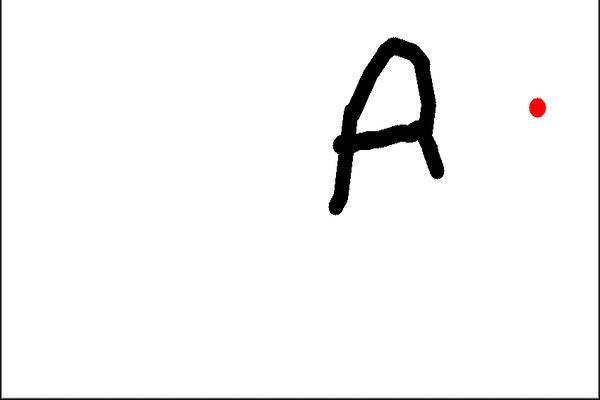A: (313, 31, 457, 217)
